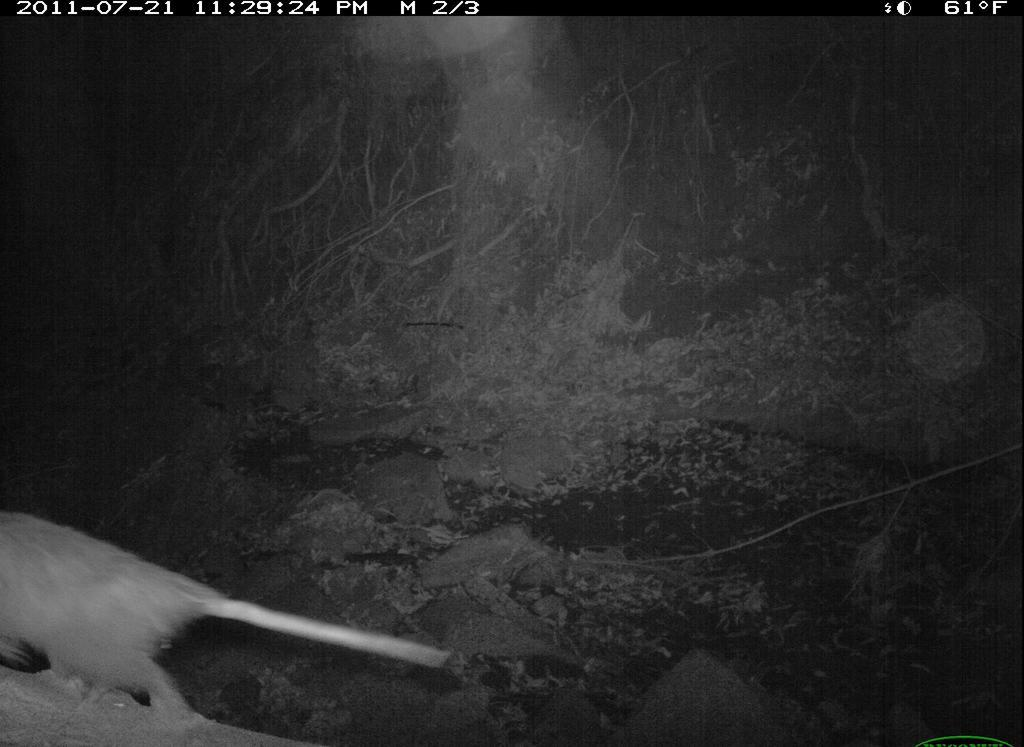opossum: (2, 505, 447, 725)
